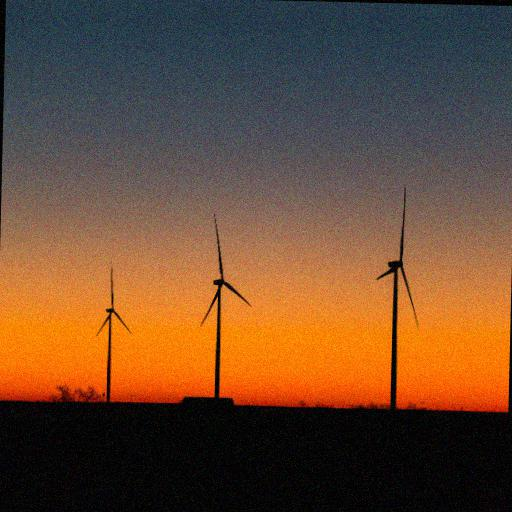wind turbine: (374, 182, 422, 411), (197, 212, 255, 396), (93, 267, 134, 403)
